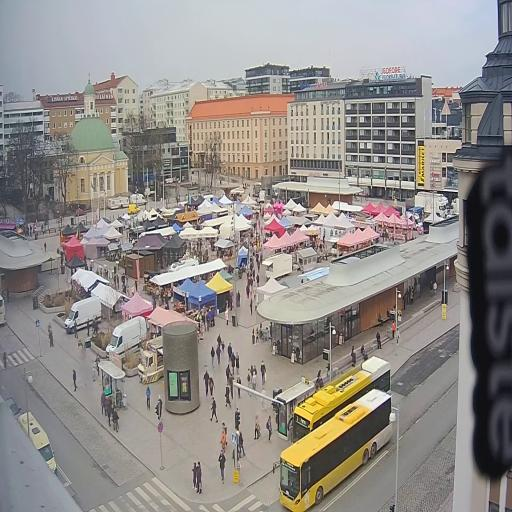bus: (278, 385, 396, 512), (290, 341, 396, 447), (0, 292, 10, 335)
car: (1, 386, 26, 428)
delivery: (18, 409, 64, 485), (102, 310, 151, 364), (60, 290, 105, 335), (411, 191, 450, 220), (126, 200, 142, 220), (129, 191, 149, 206)
